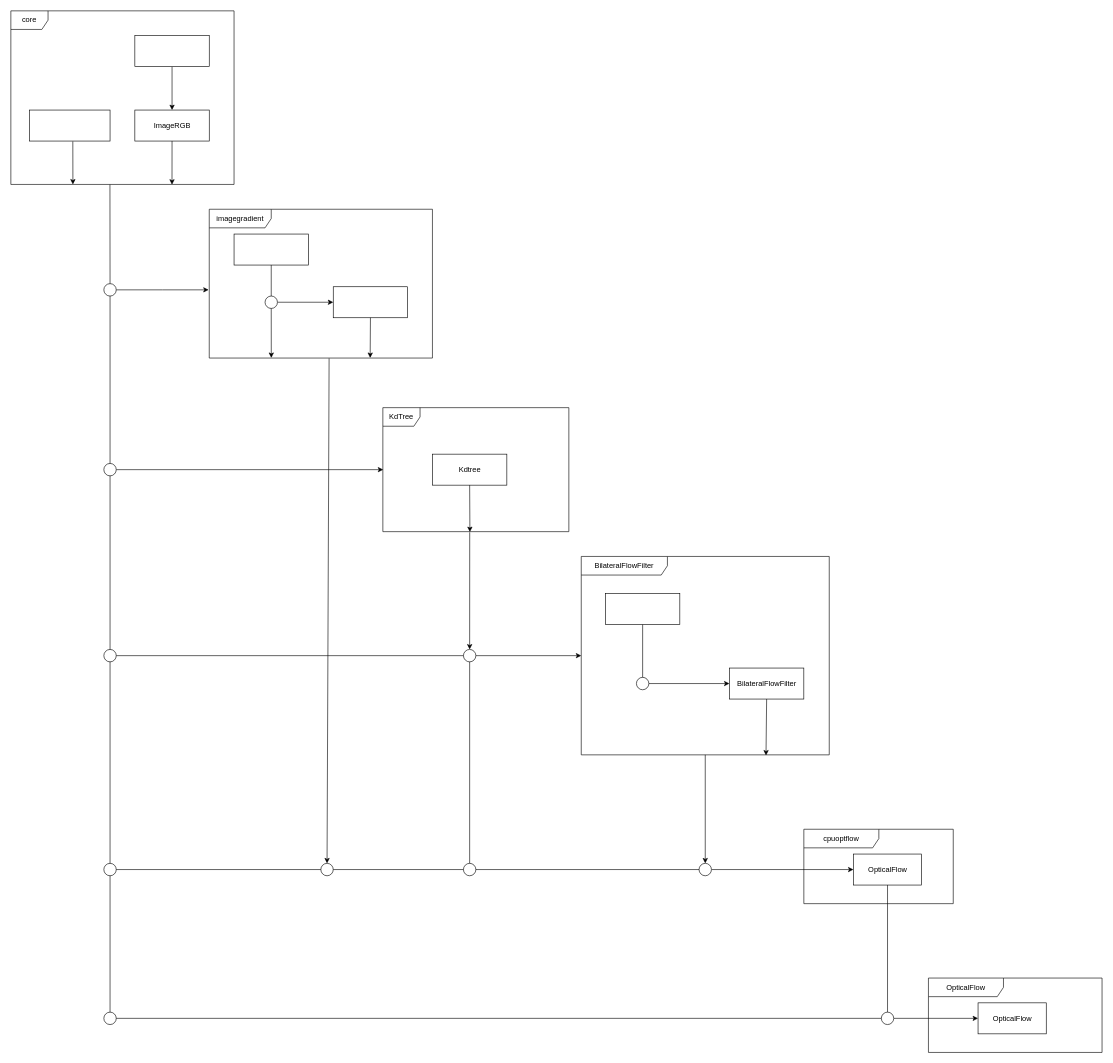
Image size: 1113x1063. Some labels were removed from this diagram. Each missing label, with the centre of its shape:
Color: (171,51)
FlowField: (69,125)
GradientBuilder: (370,302)
ImageRGBGradient: (270,249)
ReliabilityMap: (642,609)
